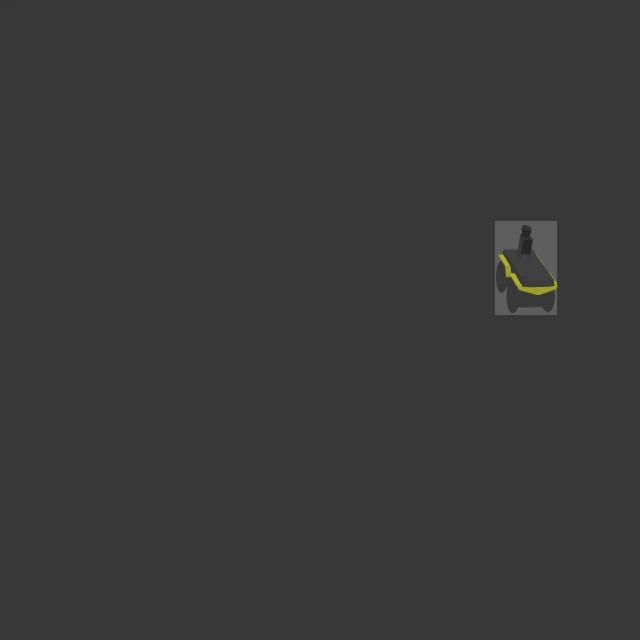jackal: (495, 222, 557, 316)
